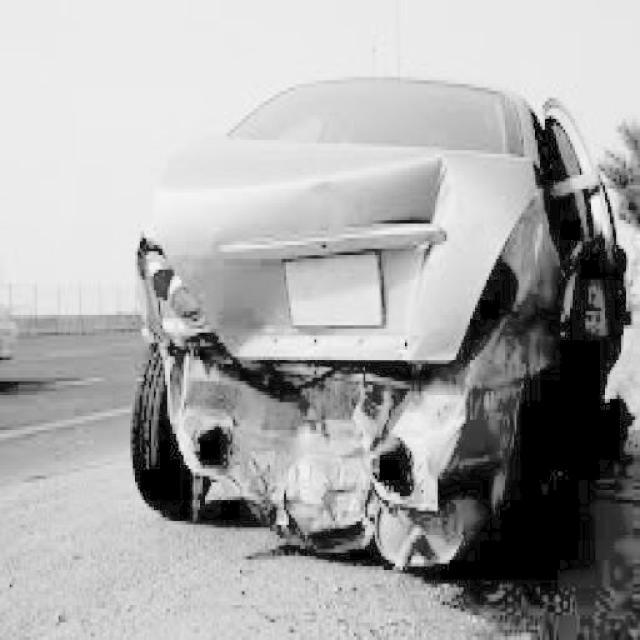car damage: (135, 134, 624, 569)
